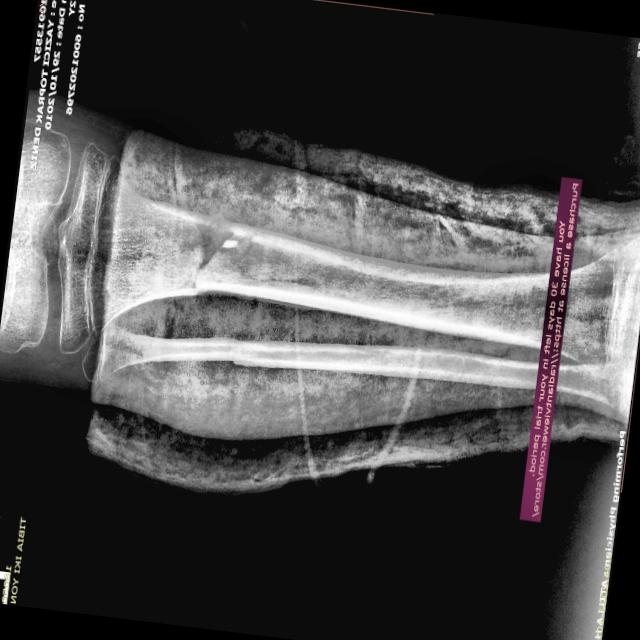Fracture: (182, 200, 252, 306)
